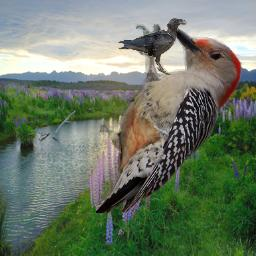Crow: (118, 18, 187, 75)
Woodpecker: (96, 24, 242, 213)
